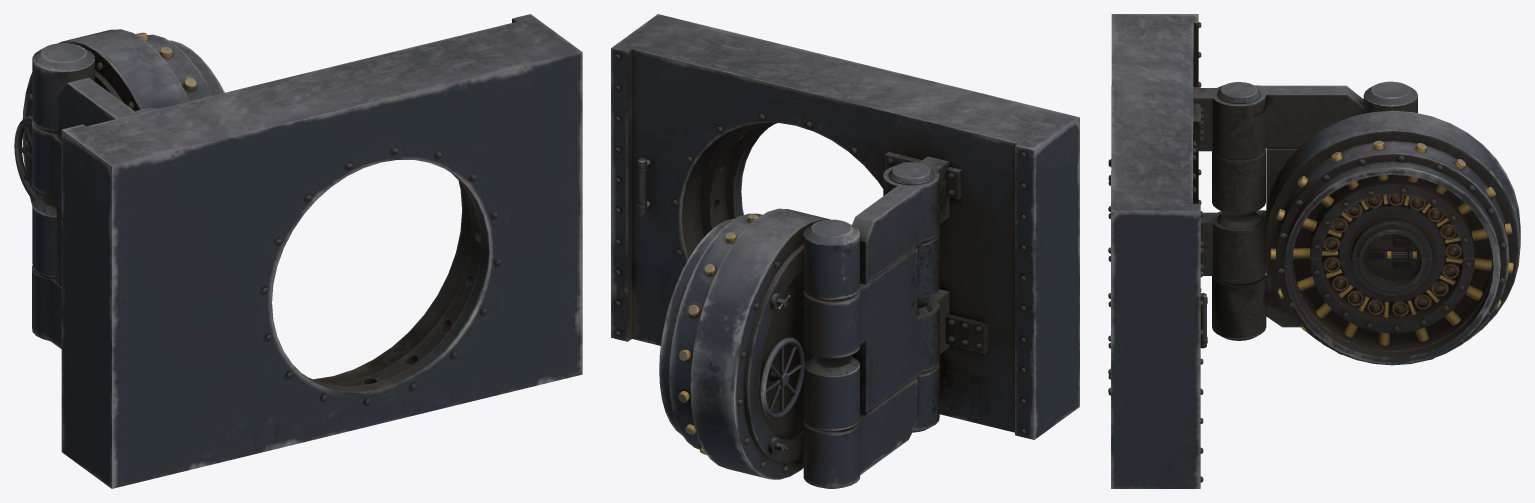
File: vault_door.glb
3 renders of one model, left to right at view 1: azimuth 30°, elevation 25°; view 2: azimuth 150°, elevation 25°; view 3: azimuth 270°, elevation 25°, orthographic. The views are drawn at different scales.
Visible parts, largest first — view 1: Object_6, Object_3, Object_8, Object_5, Object_4, Object_7; view 2: Object_6, Object_3, Object_8, Object_5, Object_4, Object_7; view 3: Object_6, Object_3, Object_2, Object_8, Object_7, Object_4, Object_5.
Boxes of the visible parts, <box> form: Object_6: <box>32,14,582,488</box>; Object_3: <box>22,29,224,205</box>; Object_8: <box>32,32,196,132</box>; Object_5: <box>24,93,56,278</box>; Object_4: <box>14,62,196,200</box>; Object_7: <box>261,147,501,404</box>; Object_6: <box>611,14,1079,488</box>; Object_3: <box>659,126,1026,479</box>; Object_8: <box>637,113,859,454</box>; Object_5: <box>615,53,982,488</box>; Object_4: <box>759,337,804,419</box>; Object_7: <box>685,284,939,432</box>; Object_6: <box>1111,14,1470,488</box>; Object_3: <box>1193,22,1520,365</box>; Object_2: <box>1293,175,1492,350</box>; Object_8: <box>1193,81,1513,359</box>; Object_7: <box>1108,159,1475,395</box>; Object_4: <box>1277,158,1462,336</box>; Object_5: <box>1193,147,1506,482</box>.
Bounding box in the file's own units: 3.97 × 2.6 × 3.5.
Materials: 2 (2 with a texture image).
